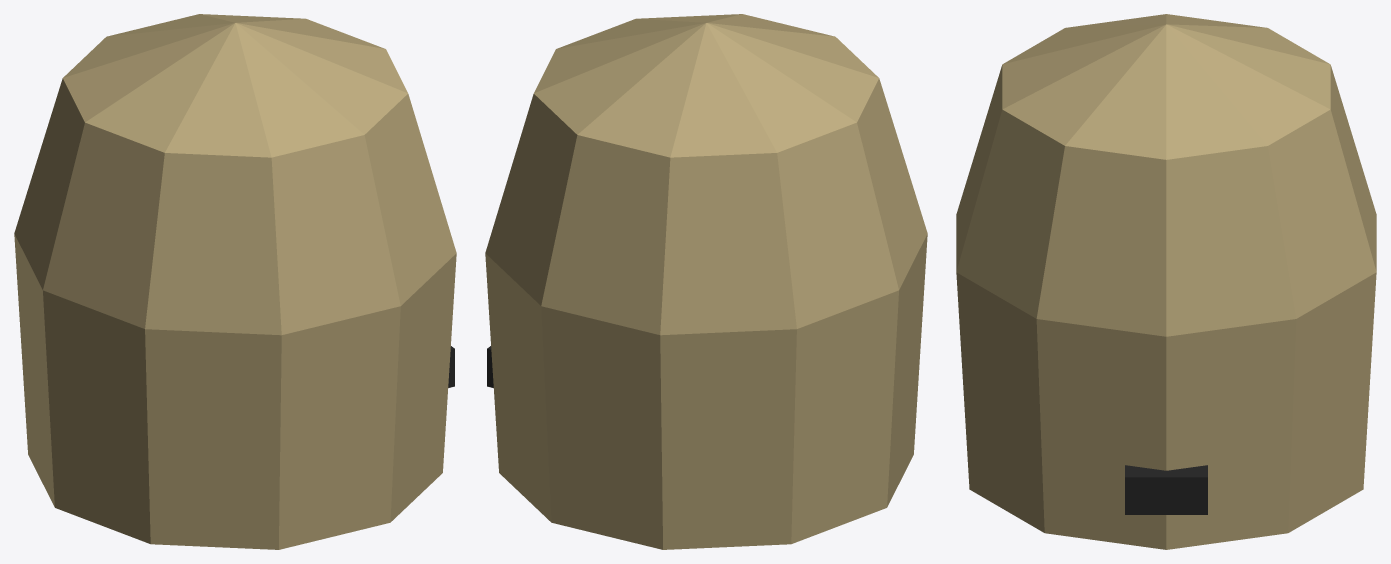
Rendered from straw_beehive.glb.
3 renders of one model, left to right at view 1: azimuth 30°, elevation 25°; view 2: azimuth 150°, elevation 25°; view 3: azimuth 270°, elevation 25°, orthographic.
Visible parts, largest first — view 1: Straw_Beehive; view 2: Straw_Beehive; view 3: Straw_Beehive.
Boxes of the visible parts, x1,y1,x2,y2 form: Straw_Beehive: (14,14,456,549); Straw_Beehive: (485,14,927,549); Straw_Beehive: (956,14,1376,549).
Size of the model in its own units: 0.65 by 0.7 by 0.6087.
